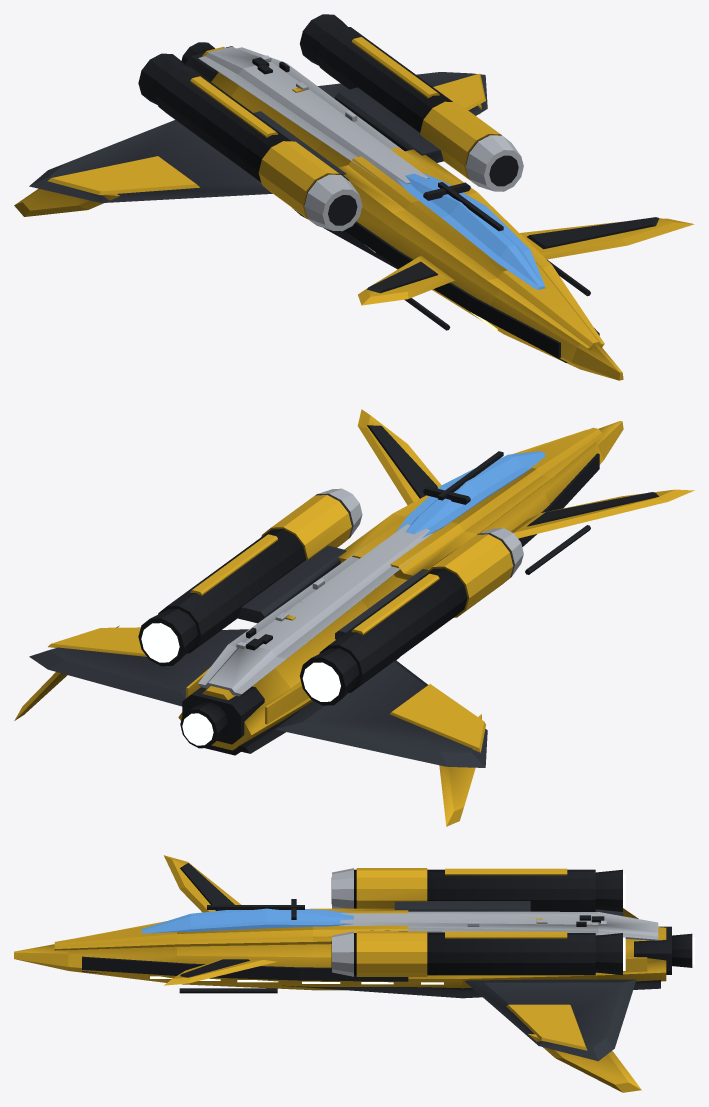
File: strike.glb
3 views of the same model, one above another, from view 1: azimuth 30°, elevation 25°; view 2: azimuth 150°, elevation 25°; view 3: azimuth 270°, elevation 25° (orthographic). The views are drawn at different scales.
Parts seen in each view (by area): view 1: hull_strike; view 2: hull_strike; view 3: hull_strike.
Part boxes in pixels (x1,y1,x2,y2): hull_strike: (14,14,694,380); hull_strike: (14,409,694,826); hull_strike: (14,855,694,1092).
Size of the model in its own units: 15.57 by 4.29 by 25.05.
